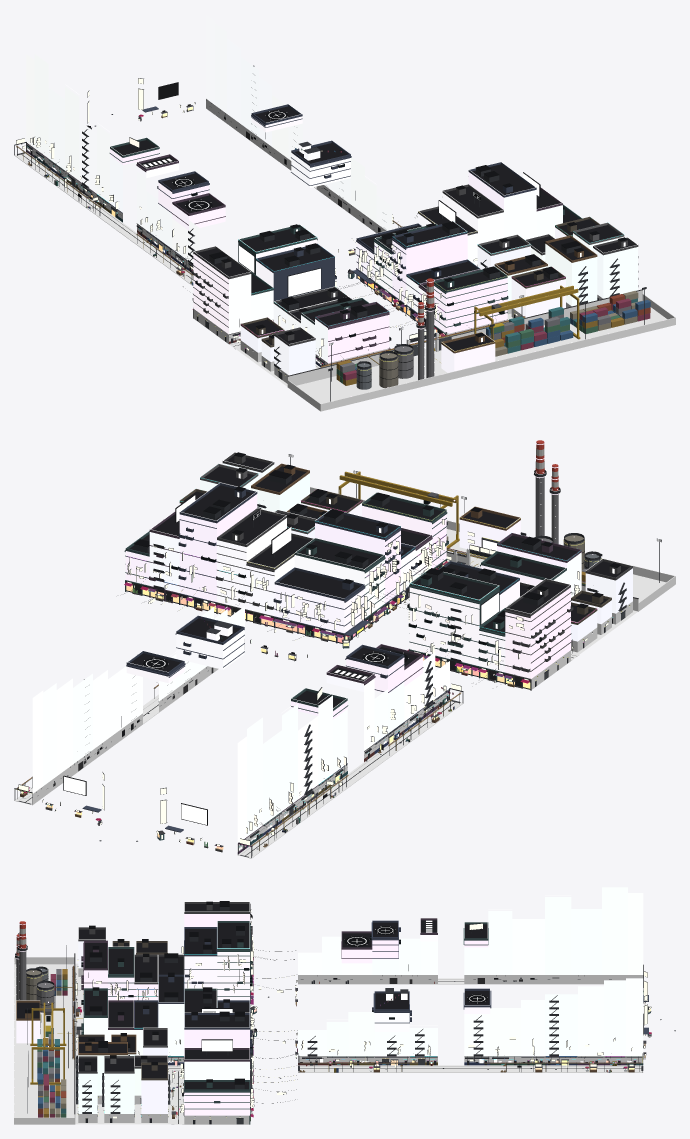
File: world-high-south.glb
3 views of the same model, one above another, from view 1: azimuth 30°, elevation 25°; view 2: azimuth 150°, elevation 25°; view 3: azimuth 270°, elevation 25° (orthographic). The views are drawn at different scales.
Parts seen in each view (by area): view 1: avenue_s_facade, avenue_s_trim, avenue_s_roof, avenue_s_concrete, avenue_s_asphalt, avenue_s_dark_detail, avenue_s_trim_detail, avenue_s_metal_detail, avenue_s_glow, avenue_s_sign, avenue_s_board_frame, avenue_s_metal (+3 smaller); view 2: avenue_s_facade, avenue_s_trim, avenue_s_roof, avenue_s_concrete, avenue_s_sign, avenue_s_trim_detail, avenue_s_metal_detail, avenue_s_board_frame, avenue_s_dark_detail, avenue_s_asphalt, avenue_s_glow, avenue_s_metal (+4 smaller); view 3: avenue_s_facade, avenue_s_trim, avenue_s_roof, avenue_s_concrete, avenue_s_asphalt, avenue_s_metal_detail, avenue_s_sidewalk, avenue_s_dark_detail, avenue_s_trim_detail, avenue_s_glow, avenue_s_sign, avenue_s_board_frame (+3 smaller).
Part boxes in pixels (bbox=[...]): avenue_s_facade: bbox=[26, 14, 637, 375]; avenue_s_trim: bbox=[16, 104, 650, 389]; avenue_s_roof: bbox=[113, 106, 634, 350]; avenue_s_concrete: bbox=[26, 99, 675, 411]; avenue_s_asphalt: bbox=[18, 153, 667, 403]; avenue_s_dark_detail: bbox=[18, 121, 627, 382]; avenue_s_trim_detail: bbox=[23, 109, 508, 364]; avenue_s_metal_detail: bbox=[16, 65, 646, 374]; avenue_s_glow: bbox=[65, 84, 663, 401]; avenue_s_sign: bbox=[16, 78, 517, 363]; avenue_s_board_frame: bbox=[16, 78, 540, 364]; avenue_s_metal: bbox=[14, 141, 644, 401]; avenue_s_facade: bbox=[32, 463, 632, 843]; avenue_s_trim: bbox=[17, 440, 638, 854]; avenue_s_roof: bbox=[129, 456, 628, 707]; avenue_s_concrete: bbox=[32, 487, 675, 851]; avenue_s_sign: bbox=[19, 519, 608, 846]; avenue_s_trim_detail: bbox=[19, 525, 581, 850]; avenue_s_metal_detail: bbox=[17, 454, 661, 855]; avenue_s_board_frame: bbox=[18, 494, 606, 846]; avenue_s_dark_detail: bbox=[25, 452, 620, 855]; avenue_s_asphalt: bbox=[18, 529, 665, 857]; avenue_s_glow: bbox=[127, 440, 662, 737]; avenue_s_metal: bbox=[14, 457, 659, 857]; avenue_s_facade: bbox=[16, 887, 643, 1115]; avenue_s_trim: bbox=[16, 902, 648, 1124]; avenue_s_roof: bbox=[17, 904, 489, 1089]; avenue_s_concrete: bbox=[14, 957, 643, 1124]; avenue_s_asphalt: bbox=[14, 964, 641, 1124]; avenue_s_metal_detail: bbox=[15, 916, 675, 1120]; avenue_s_sidewalk: bbox=[75, 963, 643, 1124]; avenue_s_dark_detail: bbox=[25, 901, 641, 1123]; avenue_s_trim_detail: bbox=[54, 921, 651, 1121]; avenue_s_glow: bbox=[14, 895, 616, 1117]; avenue_s_sign: bbox=[75, 910, 651, 1118]; avenue_s_board_frame: bbox=[40, 909, 650, 1115].
Size of the model in its own units: 176 by 49 by 303.
